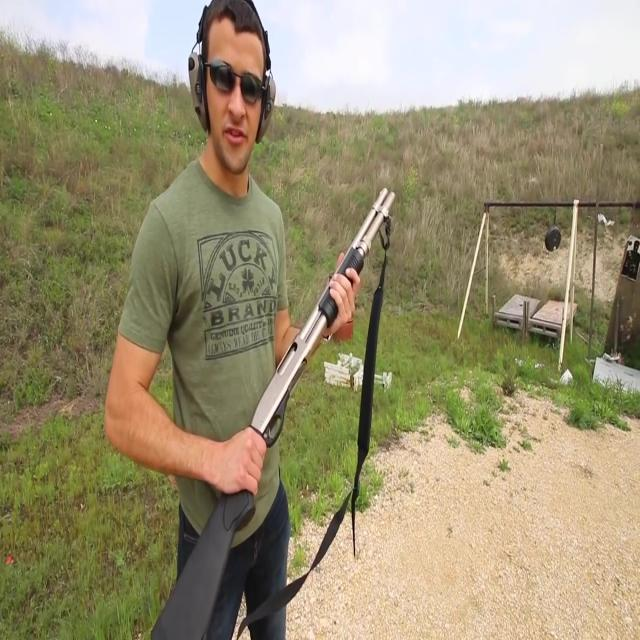Weapon: (40, 171, 433, 640)
